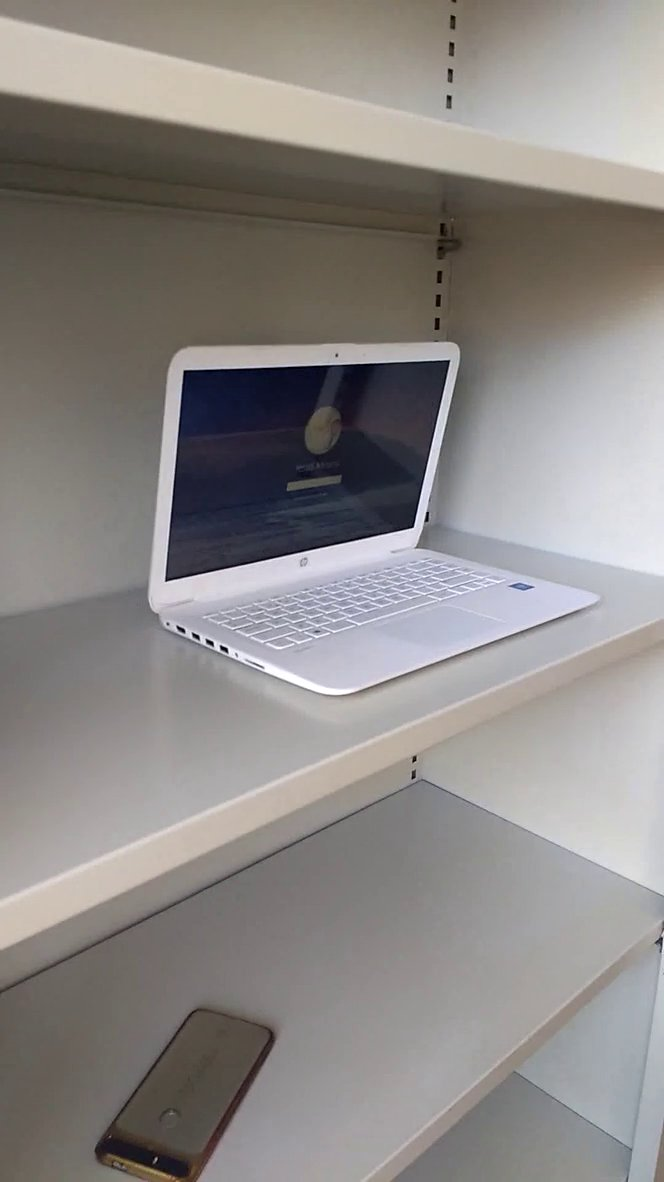laptop: (131, 314, 626, 716)
phone: (85, 994, 314, 1182)
